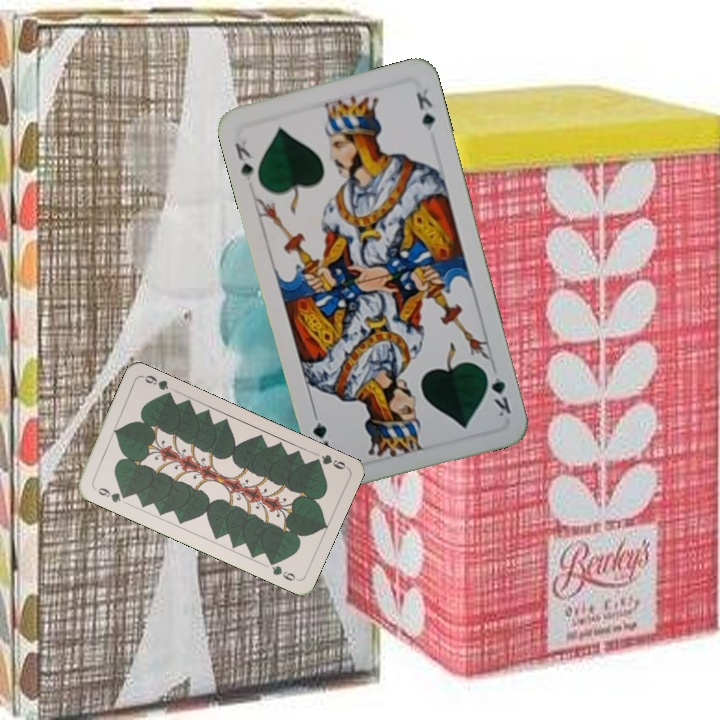G9: (308, 450, 350, 472), (89, 483, 130, 505)
GK: (480, 362, 514, 420), (230, 130, 256, 183)
